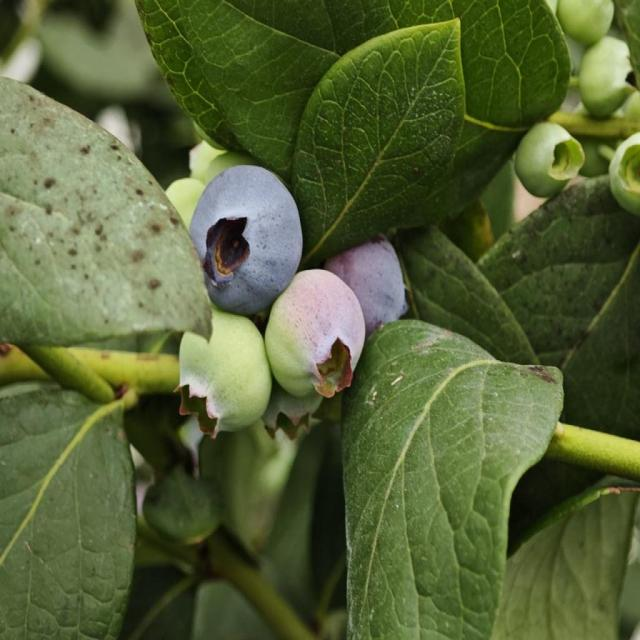RipeBlueBerry: (187, 162, 306, 316)
Semi-RipeBlueBerry: (264, 268, 366, 400), (328, 234, 411, 338)
UnripeBlueBerry: (176, 313, 272, 441), (516, 120, 584, 198)
